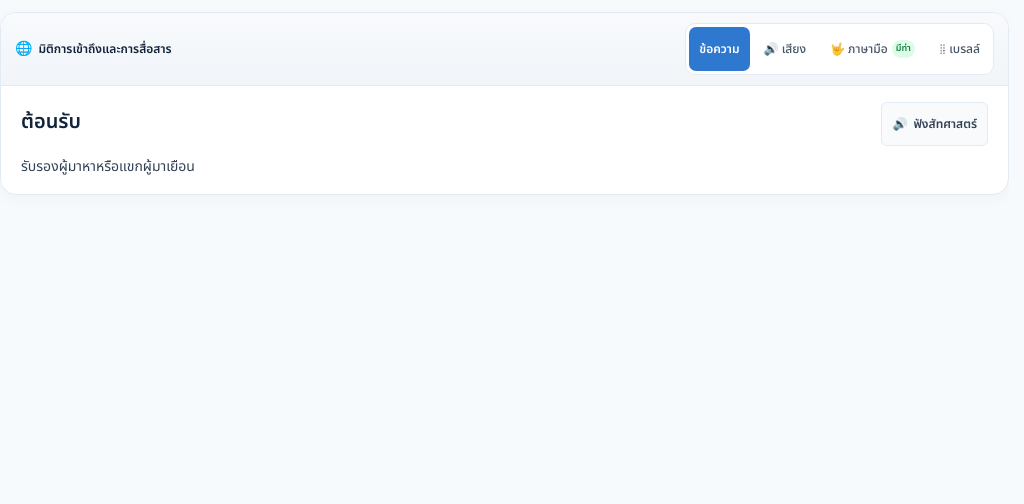
Test: THAI CONTEXT — Accessibility Expansion › 5. LanguageRepresentationCard Component › switches to Braille tab and displays Unicode Braille and copy button
Click the tab "⠠ เบรลล์" at [959, 49], box [929,27,990,71]
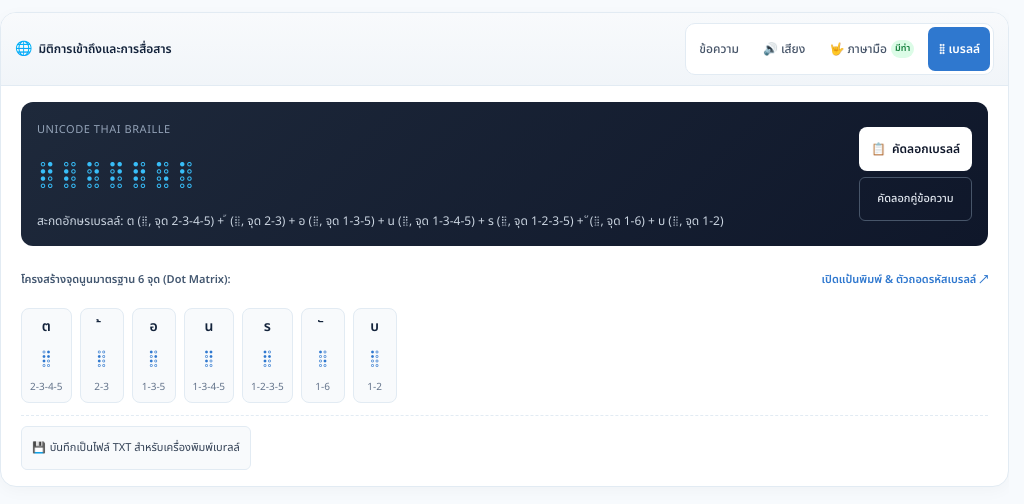
Result: the text "Unicode Thai Braille" is shown at [37,121,171,138]
Result: the text "คัดลอกเบรลล์" is shown at [892,138,960,160]
Result: the text "โครงสร้างจุดนูนมาตรฐาน 6 จุด (Dot Matrix):" is shown at [21,270,231,290]
